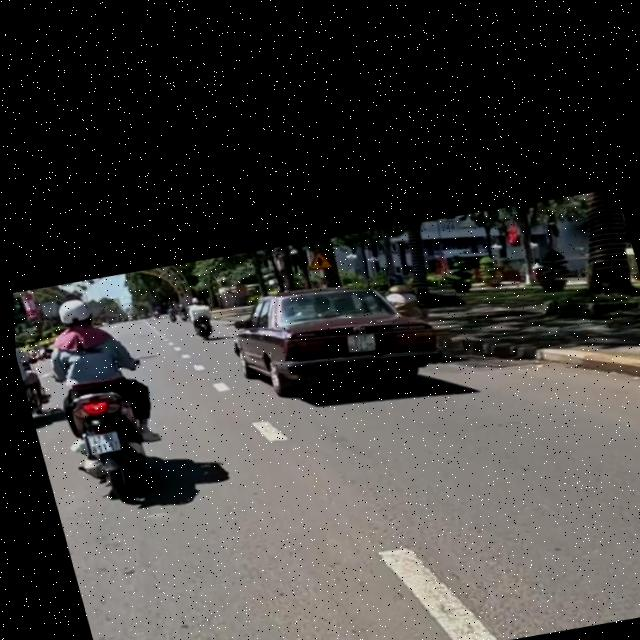car: (217, 249, 453, 426)
motorcycle: (63, 376, 166, 501)
plate: (80, 422, 128, 464), (339, 319, 380, 362)
